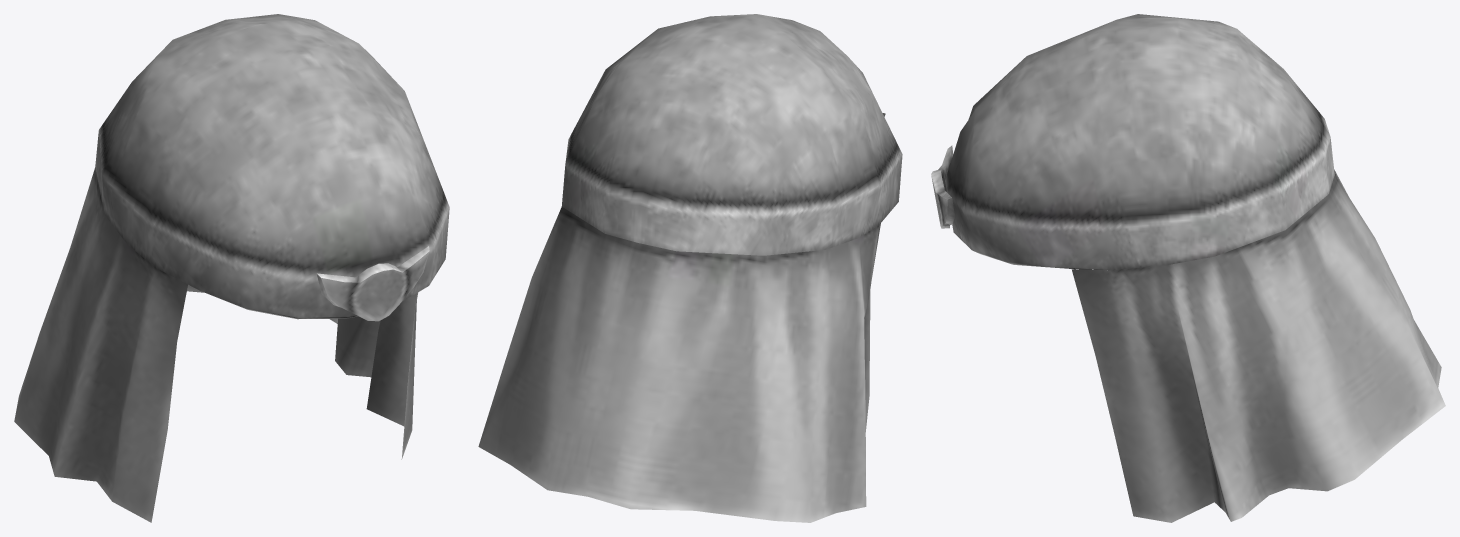
Rendered from helmet-heavyslingers.glb.
3 renders of one model, left to right at view 1: azimuth 30°, elevation 25°; view 2: azimuth 150°, elevation 25°; view 3: azimuth 270°, elevation 25°, orthographic. The views are drawn at different scales.
Bounding box in the file's own units: 0.2935 × 0.3497 × 0.3773.
1 material, 1 textured.
